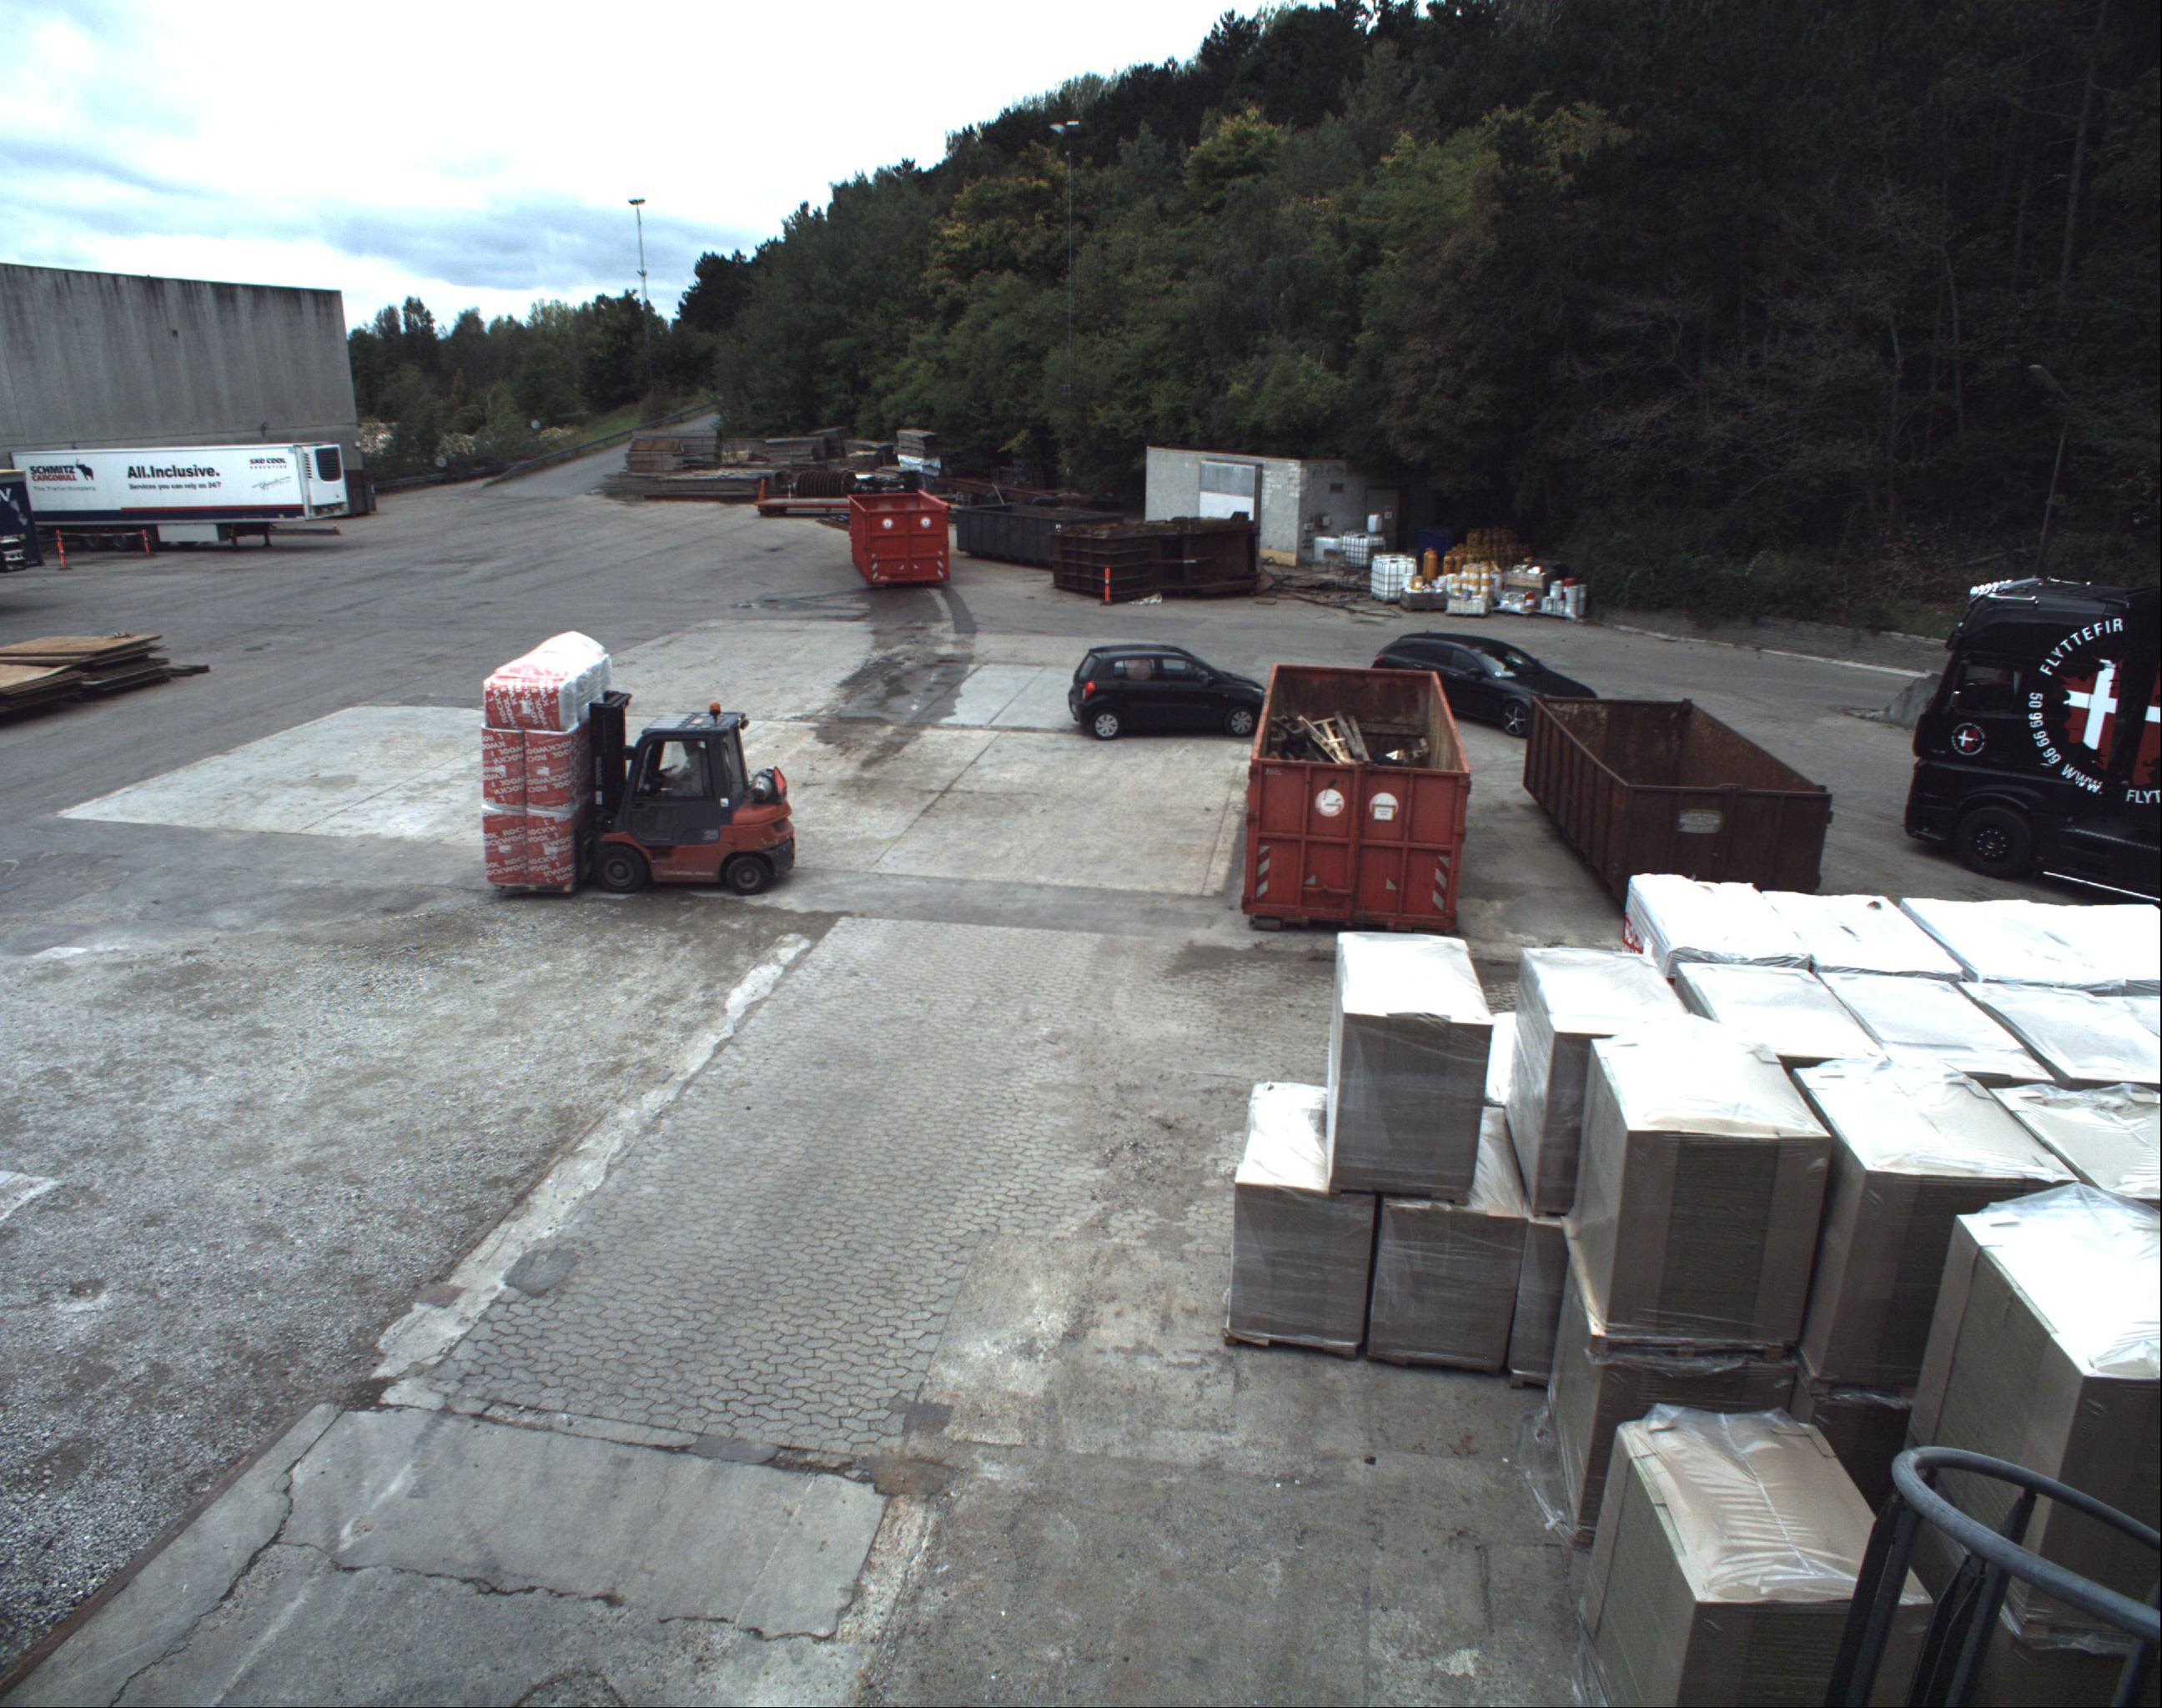rockwool_batts: (472, 630, 604, 879)
